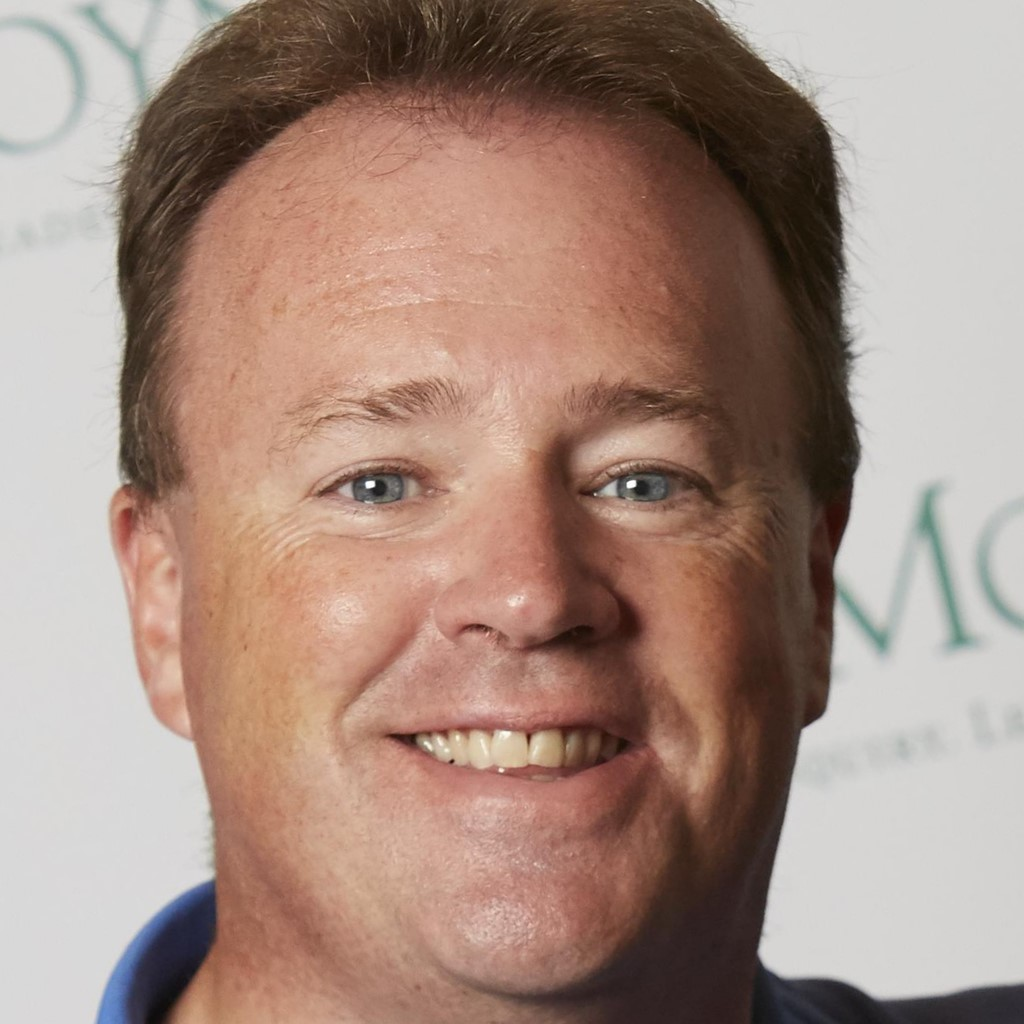sin_mascara: (174, 87, 823, 996)
